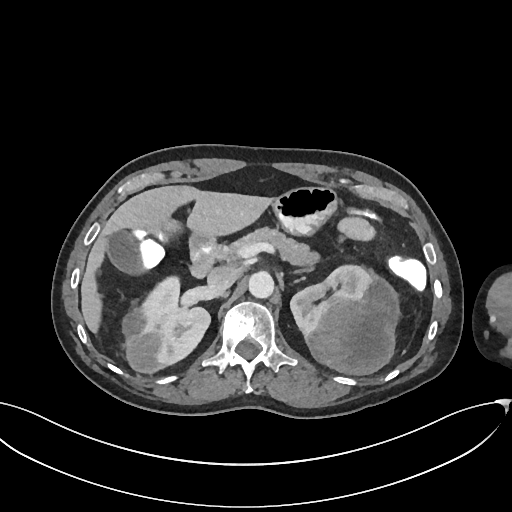Lesion: (323, 273, 401, 380)
